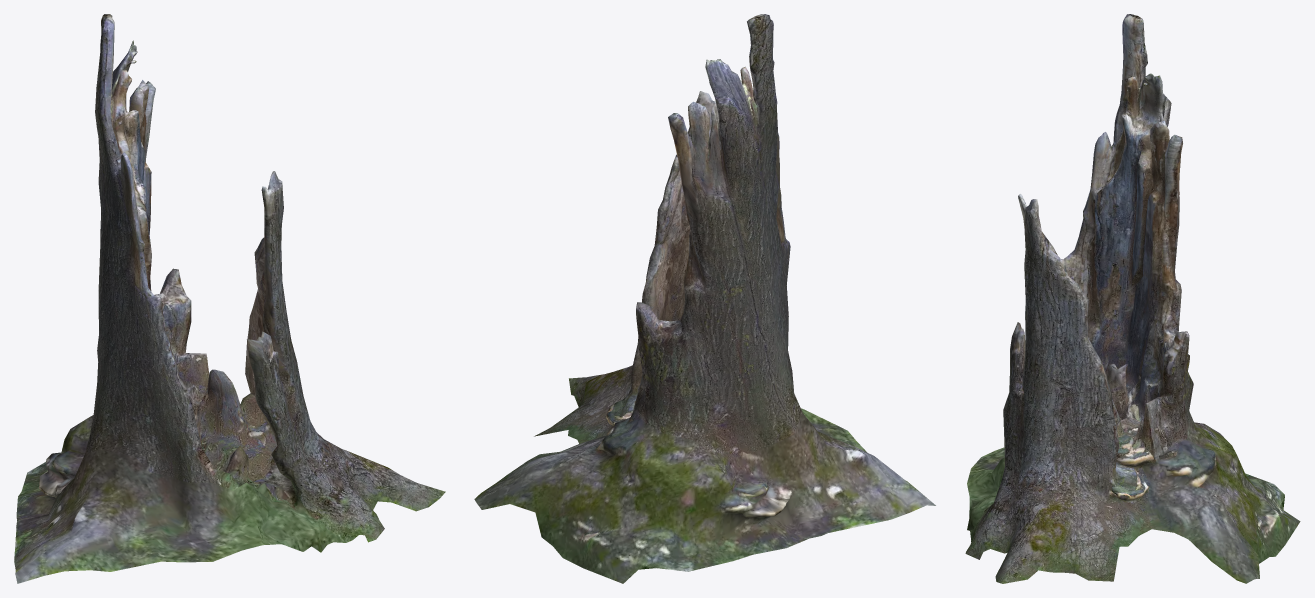
The model's file is arvore_rachada.gltf.
The picture shows the model from 3 angles, left to right: view 1: azimuth 30°, elevation 25°; view 2: azimuth 150°, elevation 25°; view 3: azimuth 270°, elevation 25°; orthographic projection. The views are drawn at different scales.
Visible parts, largest first — view 1: arvore_rachada; view 2: arvore_rachada; view 3: arvore_rachada.
Boxes of the visible parts, x1,y1,x2,y2 form: arvore_rachada: (14, 14, 445, 583); arvore_rachada: (474, 14, 935, 583); arvore_rachada: (965, 14, 1300, 583).
Bounding box in the file's own units: 5.57 × 7 × 4.38.
Materials: 1 (1 with a texture image).
